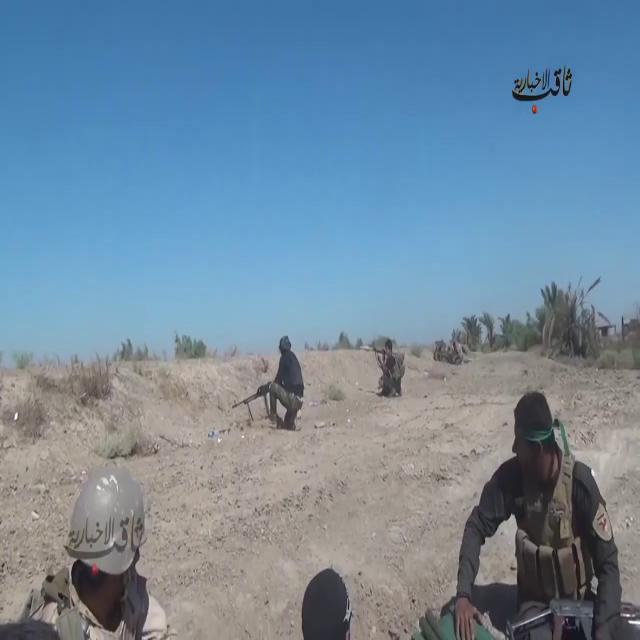long weapon: (228, 373, 274, 425)
